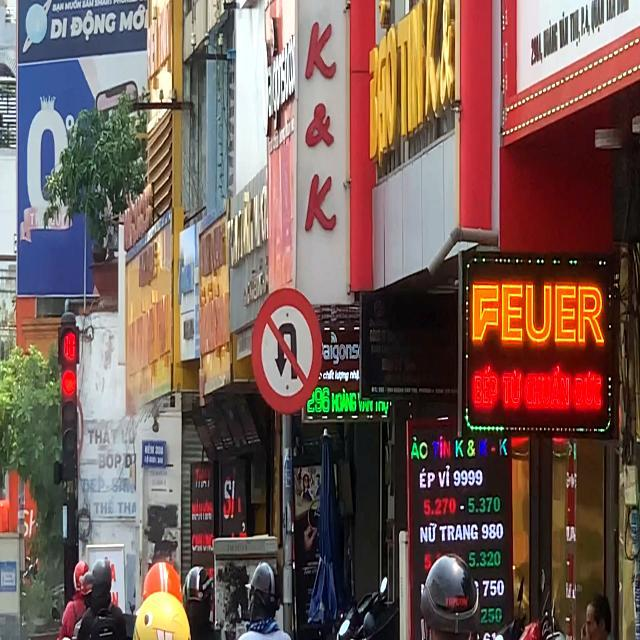P-124a1: (253, 288, 320, 408)
